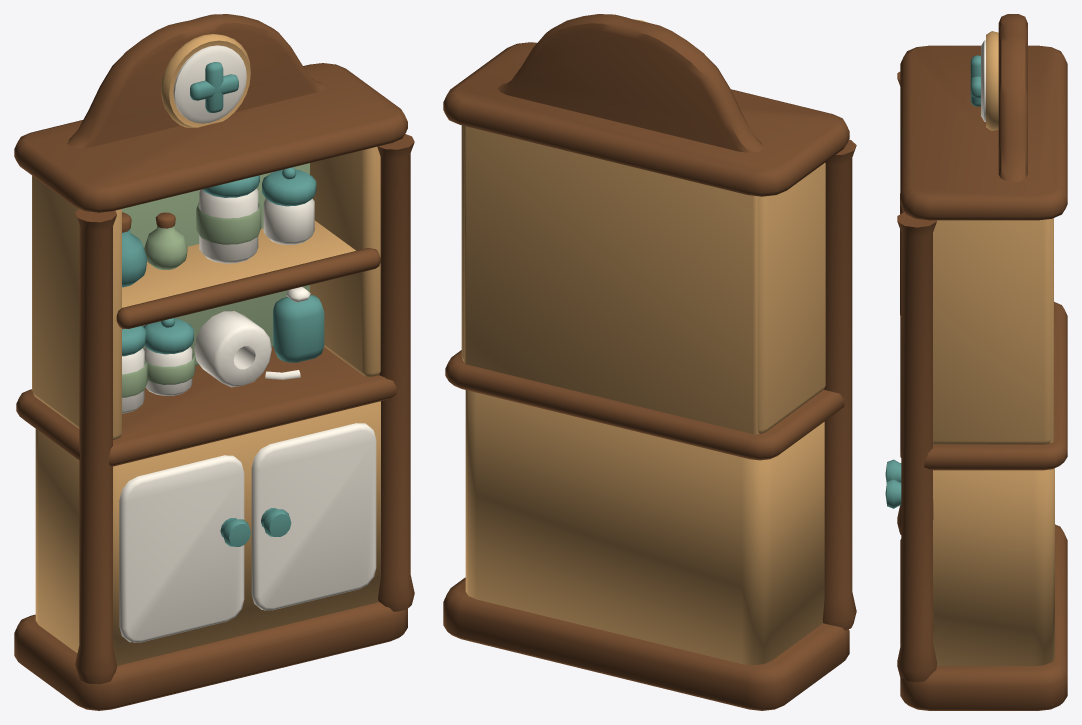
File: ShopMedCabinet.fbx
3 renders of one model, left to right at view 1: azimuth 30°, elevation 25°; view 2: azimuth 150°, elevation 25°; view 3: azimuth 270°, elevation 25°, orthographic. The views are drawn at different scales.
Visible parts, largest first — view 1: ShopMedCabinet; view 2: ShopMedCabinet; view 3: ShopMedCabinet.
Boxes of the visible parts, <box> form: ShopMedCabinet: <box>14,14,414,710</box>; ShopMedCabinet: <box>443,14,856,710</box>; ShopMedCabinet: <box>885,14,1067,710</box>.
Size of the model in its own units: 0.91 by 1.6 by 0.436.
